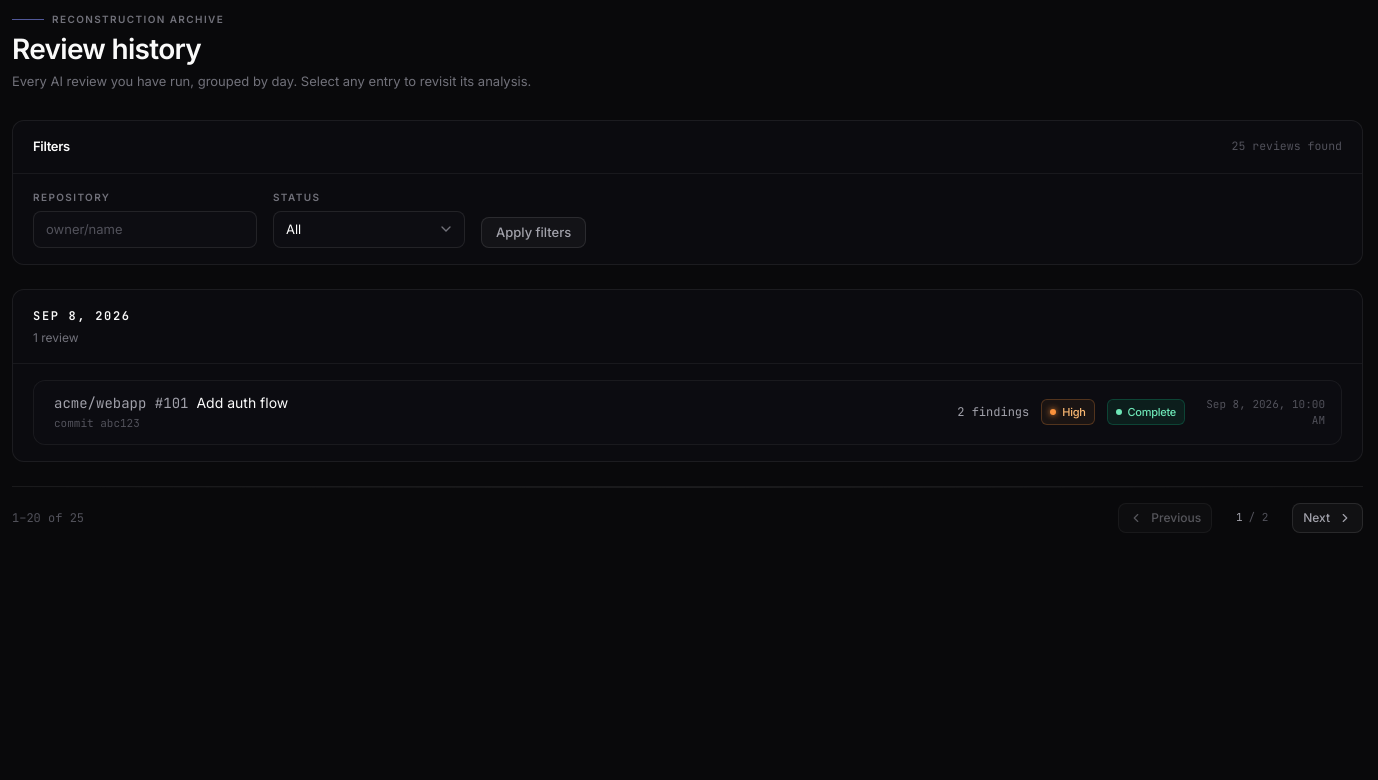
HistoryPage › paginates through history
This screenshot has width=1378, height=780.
Expected: the text "Add auth flow" is shown, [196,393,288,413]
Click the button "Next" at (1328, 518), box [1292,503,1363,533]
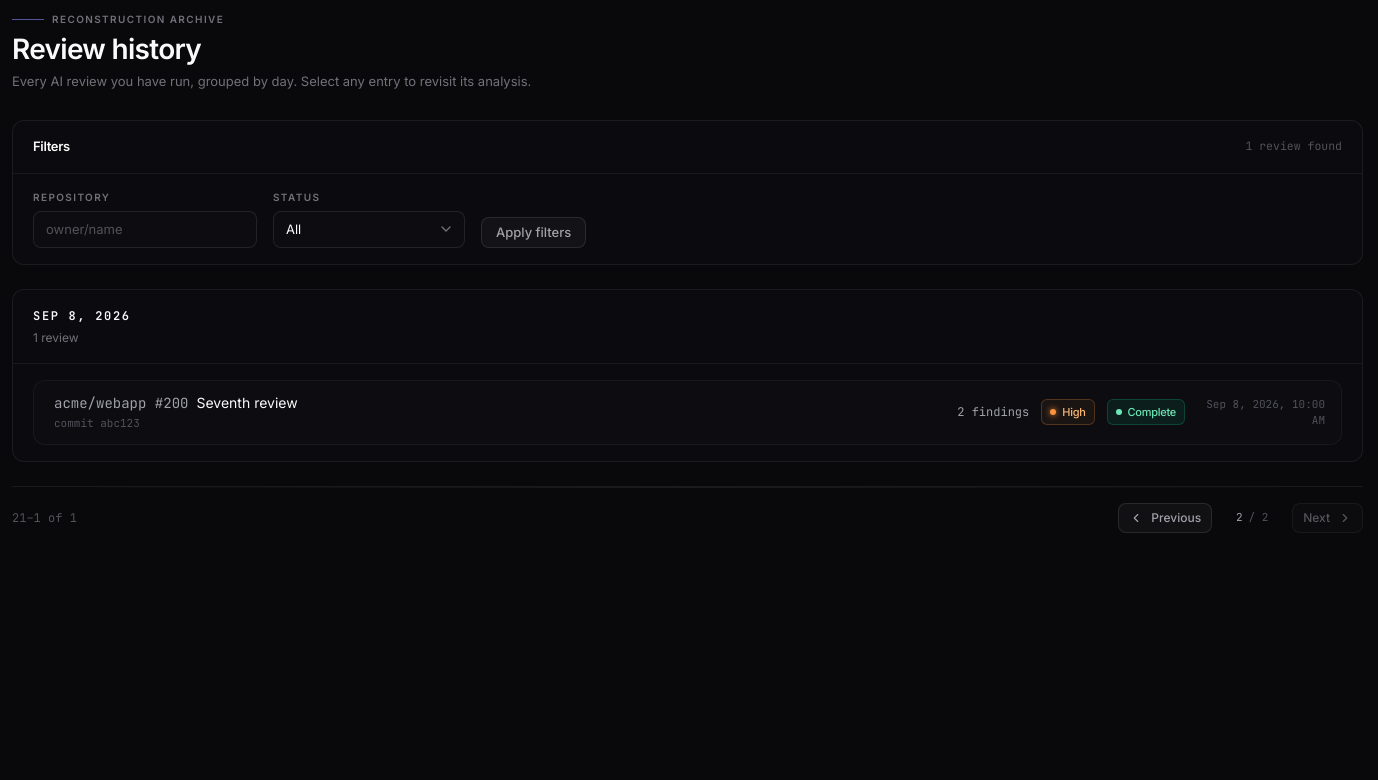
Expected: the text "Seventh review" is shown, [196,393,298,413]
Expected: the text "acme/webapp #200" is shown, [54,393,188,413]
